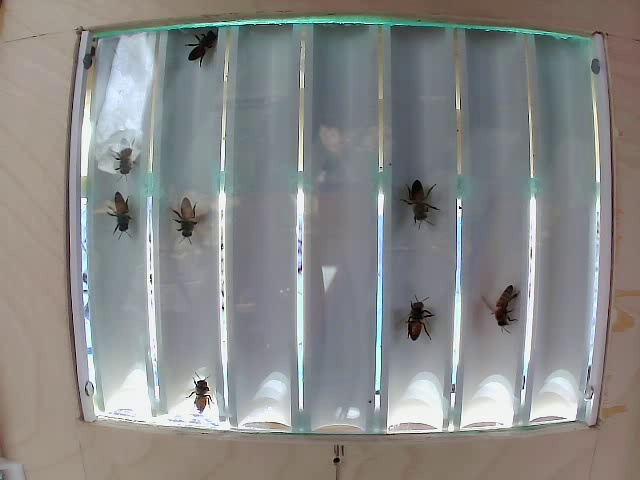bee: (161, 182, 215, 243), (97, 137, 150, 194), (98, 184, 140, 251), (182, 30, 222, 87), (395, 163, 435, 216), (181, 366, 220, 417), (486, 280, 517, 328), (413, 295, 437, 351)
